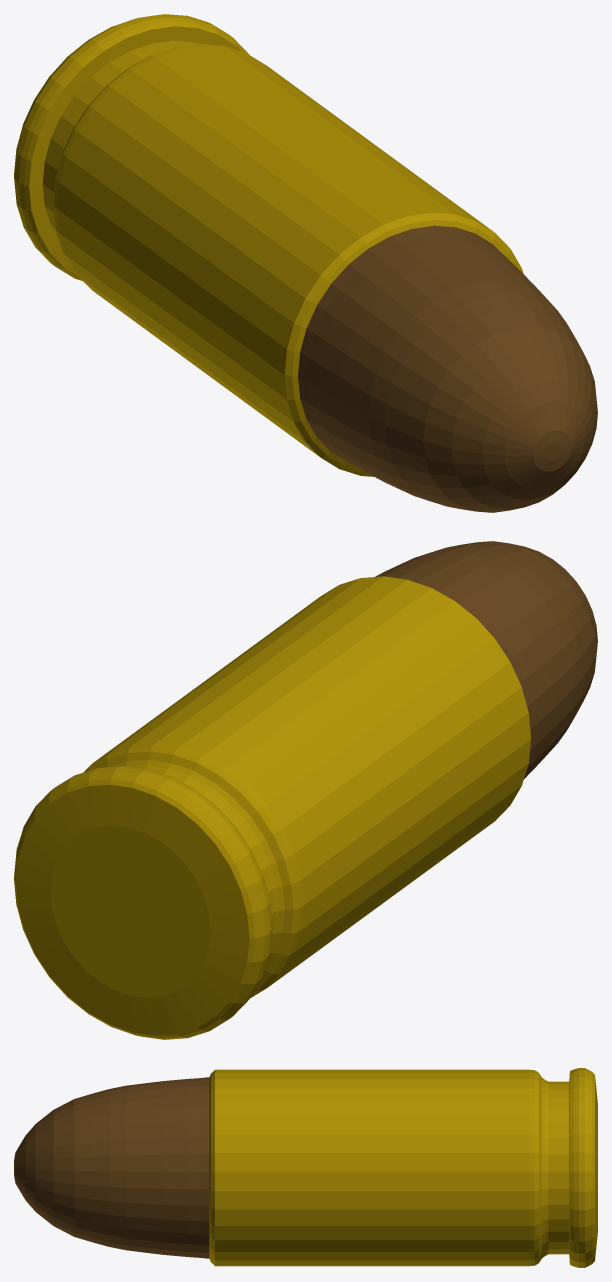
Rendered from bala.fbx.
The picture shows the model from 3 angles, top to bottom: view 1: azimuth 30°, elevation 25°; view 2: azimuth 150°, elevation 25°; view 3: azimuth 270°, elevation 25°; orthographic projection. The views are drawn at different scales.
Visible parts, largest first — view 1: Cylinder; view 2: Cylinder; view 3: Cylinder.
Part boxes in pixels (x1,y1,x2,y2): Cylinder: [14, 14, 597, 512]; Cylinder: [14, 541, 597, 1039]; Cylinder: [14, 1068, 597, 1267].
Size of the model in its own units: 133 by 133 by 389.
1 material, 1 textured.
